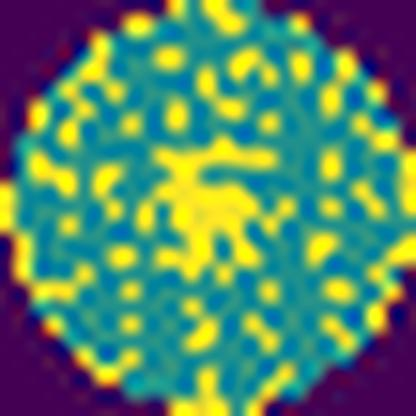Center: (130, 136, 302, 284)
